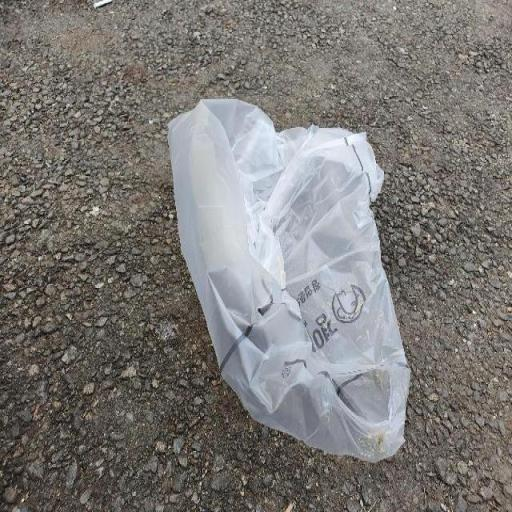plastic-bag: (168, 86, 422, 460)
